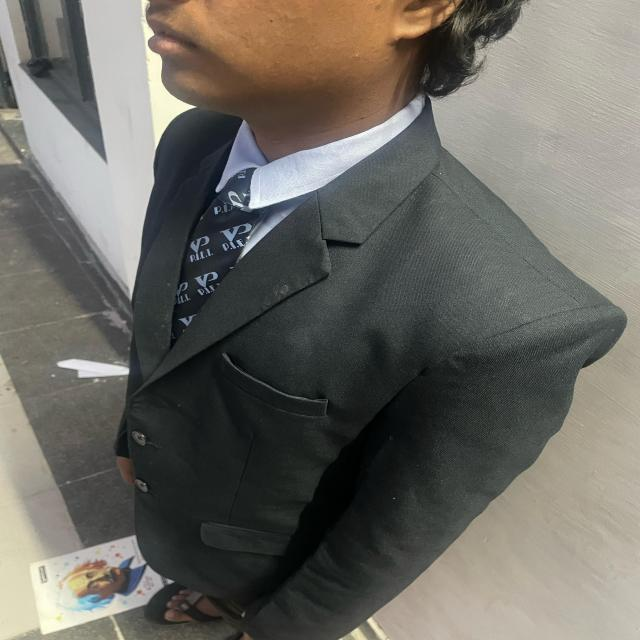Tie: (169, 166, 271, 350)
uniform: (113, 91, 628, 639)
